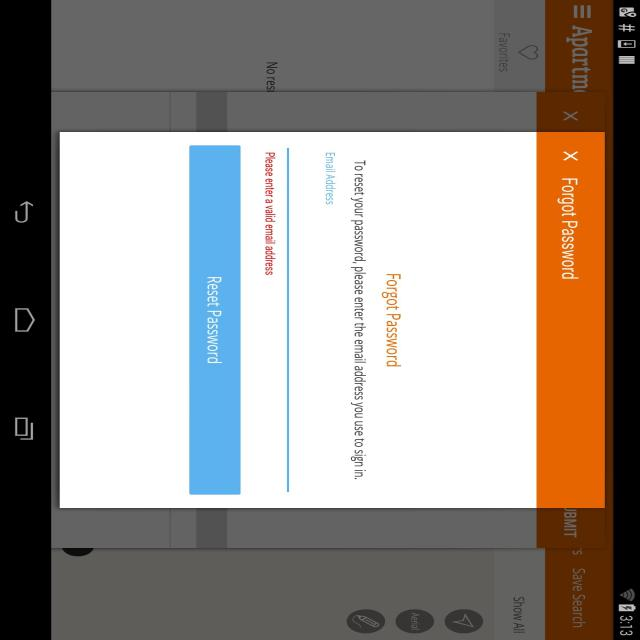button: (189, 144, 239, 494), (559, 148, 585, 166)
field: (289, 145, 338, 493)
heading: (558, 174, 584, 284), (383, 270, 408, 372)
label: (322, 148, 340, 208)
text: (350, 157, 372, 483), (265, 148, 278, 278)
